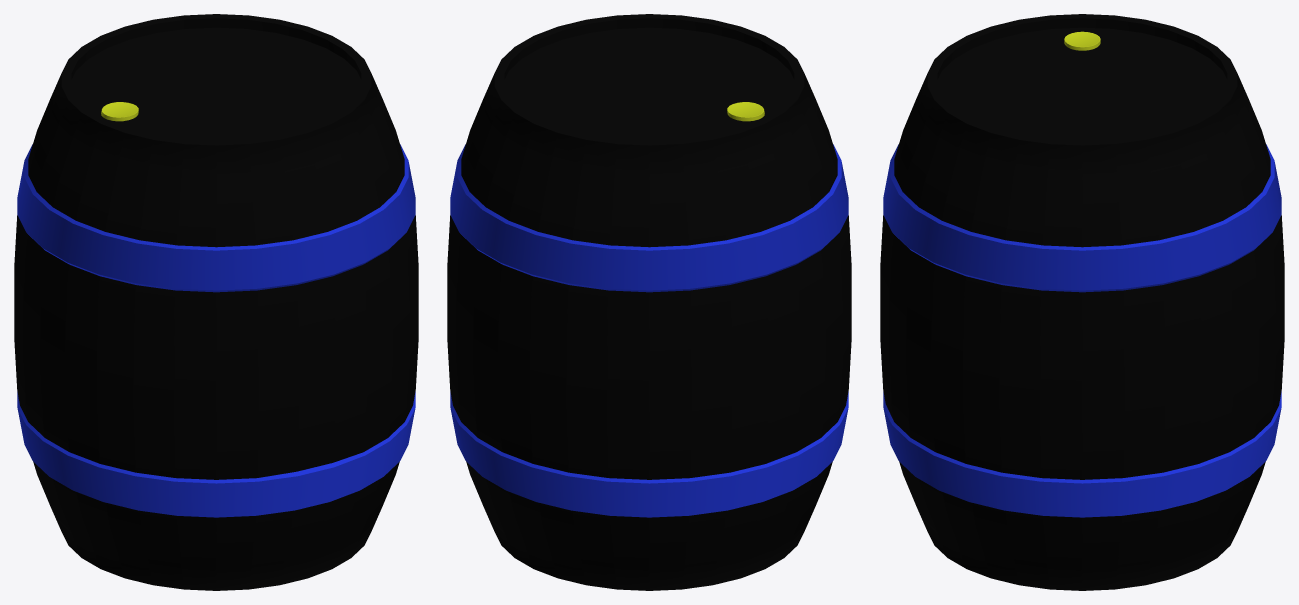
The model's file is barrelold.fbx.
3 renders of one model, left to right at view 1: azimuth 30°, elevation 25°; view 2: azimuth 150°, elevation 25°; view 3: azimuth 270°, elevation 25°, orthographic.
Visible parts, largest first — view 1: pCylinder5; view 2: pCylinder5; view 3: pCylinder5.
Boxes of the visible parts, x1,y1,x2,y2 form: pCylinder5: [14, 14, 418, 590]; pCylinder5: [447, 14, 851, 590]; pCylinder5: [880, 14, 1284, 590].
Size of the model in its own units: 338 by 409 by 337.
